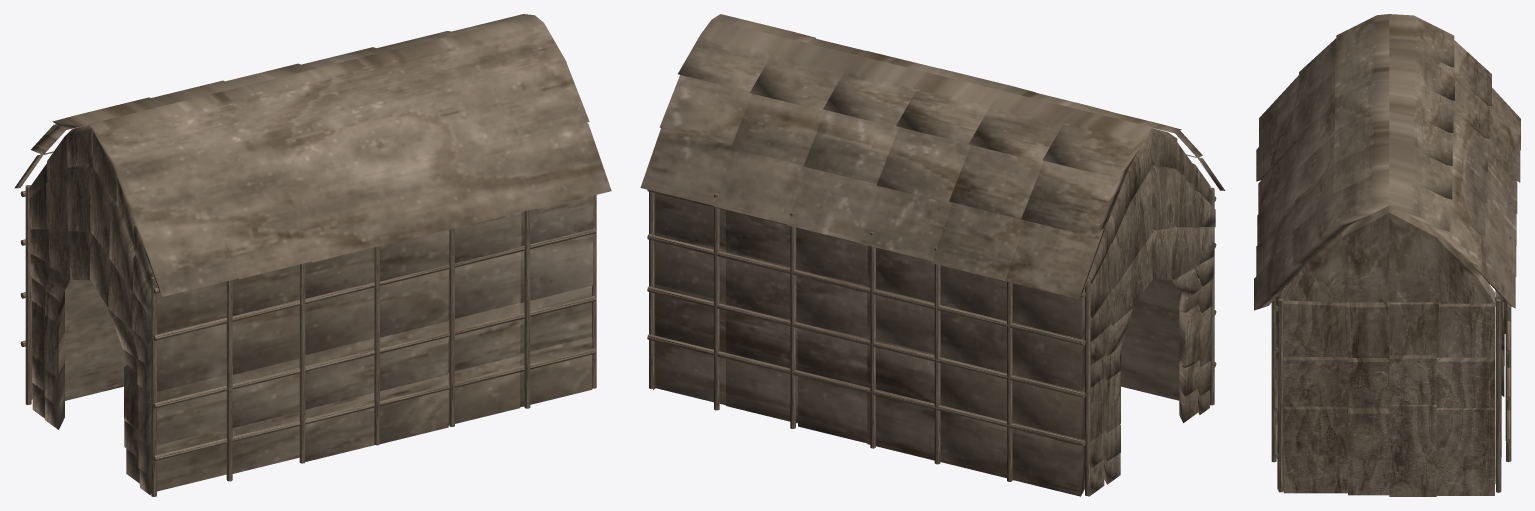
Rendered from Longhouse.gltf.
3 views of the same model, side by side, from view 1: azimuth 30°, elevation 25°; view 2: azimuth 150°, elevation 25°; view 3: azimuth 270°, elevation 25° (orthographic). The views are drawn at different scales.
Visible parts, largest first — view 1: pPlane6, pPlane9, pPlane11, pCylinder16, pCylinder17, pCylinder15, pCylinder7, pCylinder5, pCylinder4, pCylinder3, pCylinder6, pCylinder1 (+2 smaller); view 2: pPlane6, pPlane9, pPlane11, pCylinder22, pCylinder20, pCylinder21, pCylinder9, pCylinder7, pCylinder11, pCylinder12, pCylinder10, pCylinder8 (+2 smaller); view 3: pPlane3, pPlane6, pCylinder14, pCylinder13, pCylinder3, pCylinder12.
Boxes of the visible parts, bbox=[...] form: pPlane6: bbox=[14, 14, 611, 491]; pPlane9: bbox=[29, 124, 153, 495]; pPlane11: bbox=[65, 279, 126, 400]; pCylinder16: bbox=[153, 295, 596, 408]; pCylinder17: bbox=[153, 348, 596, 461]; pCylinder15: bbox=[153, 228, 596, 340]; pCylinder7: bbox=[25, 185, 31, 404]; pCylinder5: bbox=[226, 280, 232, 481]; pCylinder4: bbox=[299, 263, 305, 463]; pCylinder3: bbox=[524, 210, 530, 408]; pCylinder6: bbox=[151, 276, 156, 496]; pCylinder1: bbox=[374, 246, 379, 445]; pPlane6: bbox=[640, 14, 1225, 496]; pPlane9: bbox=[1088, 128, 1215, 496]; pPlane11: bbox=[1121, 276, 1179, 400]; pCylinder22: bbox=[647, 334, 1085, 445]; pCylinder20: bbox=[647, 234, 1085, 345]; pCylinder21: bbox=[647, 286, 1085, 397]; pCylinder9: bbox=[934, 247, 940, 464]; pCylinder7: bbox=[1085, 278, 1090, 496]; pCylinder11: bbox=[790, 212, 795, 428]; pCylinder12: bbox=[714, 193, 719, 410]; pCylinder10: bbox=[870, 231, 875, 448]; pCylinder8: bbox=[1007, 282, 1012, 481]; pPlane3: bbox=[1283, 205, 1494, 496]; pPlane6: bbox=[1254, 14, 1520, 489]; pCylinder14: bbox=[1278, 298, 1283, 492]; pCylinder13: bbox=[1496, 299, 1501, 492]; pCylinder3: bbox=[1271, 301, 1276, 462]; pCylinder12: bbox=[1506, 268, 1511, 461].
Bounding box in the file's own units: 8.65 × 6.11 × 5.05.
Materials: 5 (5 with a texture image).
